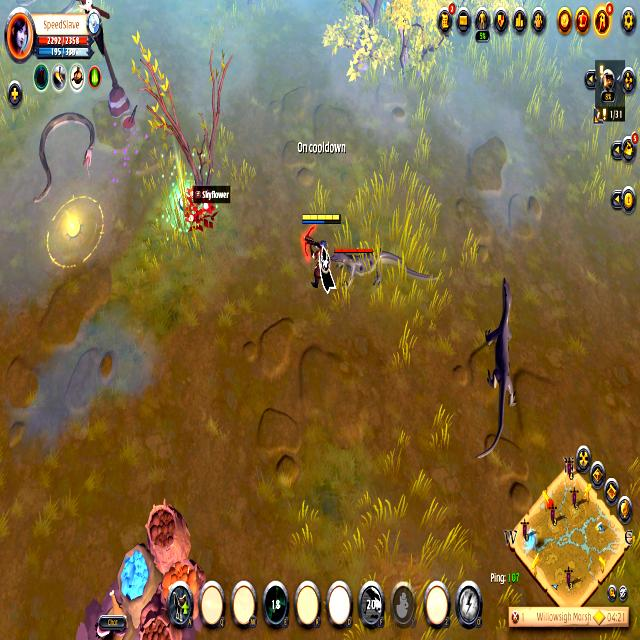hide: (175, 181, 221, 238)
ore: (468, 269, 524, 476), (328, 238, 442, 306)
red: (299, 202, 344, 302)
